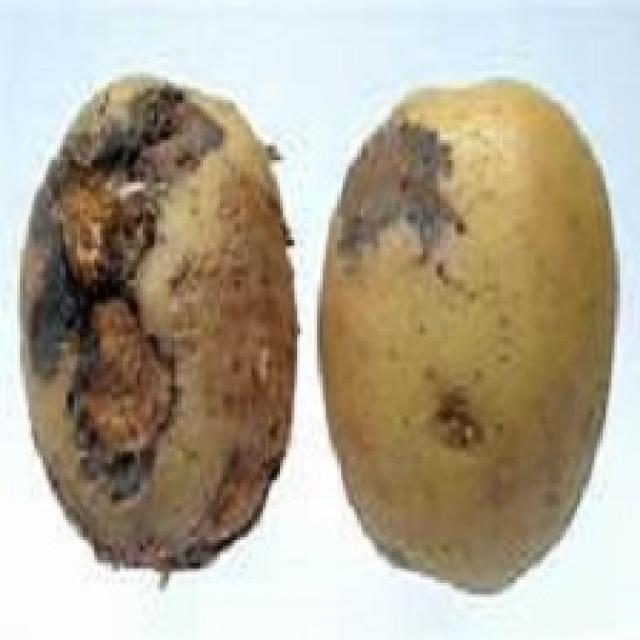black_scurf: (310, 51, 627, 604), (5, 54, 303, 602)
